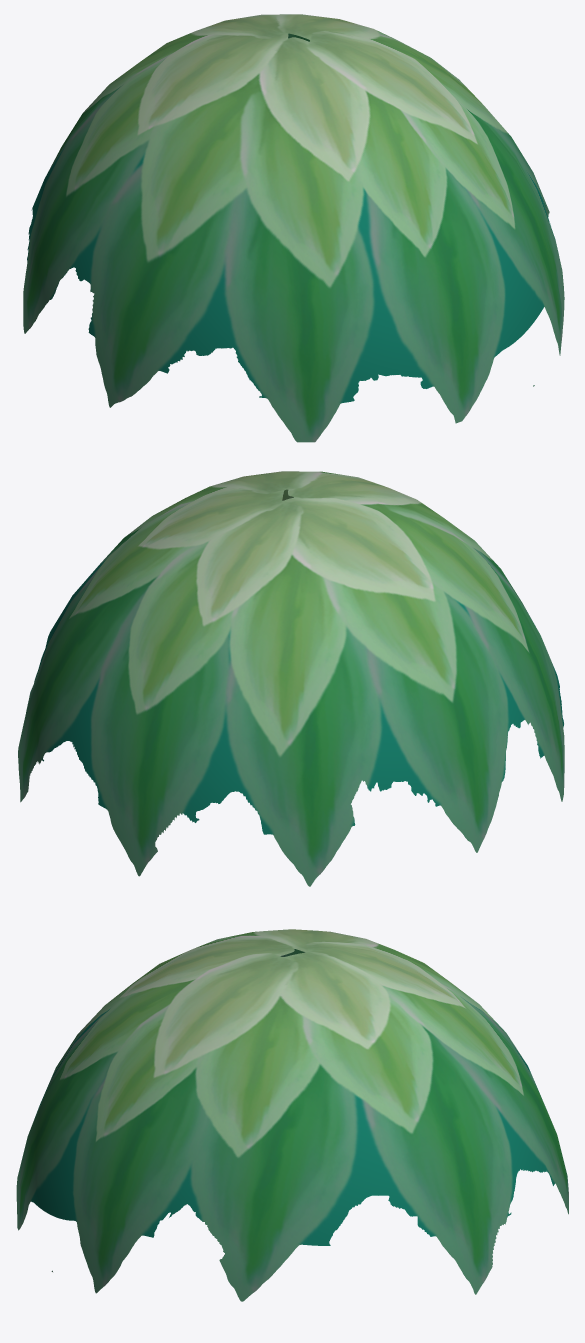
The model's file is Bush_Leaves_3.fbx.
3 views of the same model, one above another, from view 1: azimuth 30°, elevation 25°; view 2: azimuth 150°, elevation 25°; view 3: azimuth 270°, elevation 25° (orthographic). The views are drawn at different scales.
Visible parts, largest first — view 1: pSphere4; view 2: pSphere4; view 3: pSphere4.
Part boxes in pixels (<box>): pSphere4: <box>23,14,564,442</box>; pSphere4: <box>18,471,564,886</box>; pSphere4: <box>16,929,568,1301</box>.
Size of the model in its own units: 105 by 59.89 by 112.
